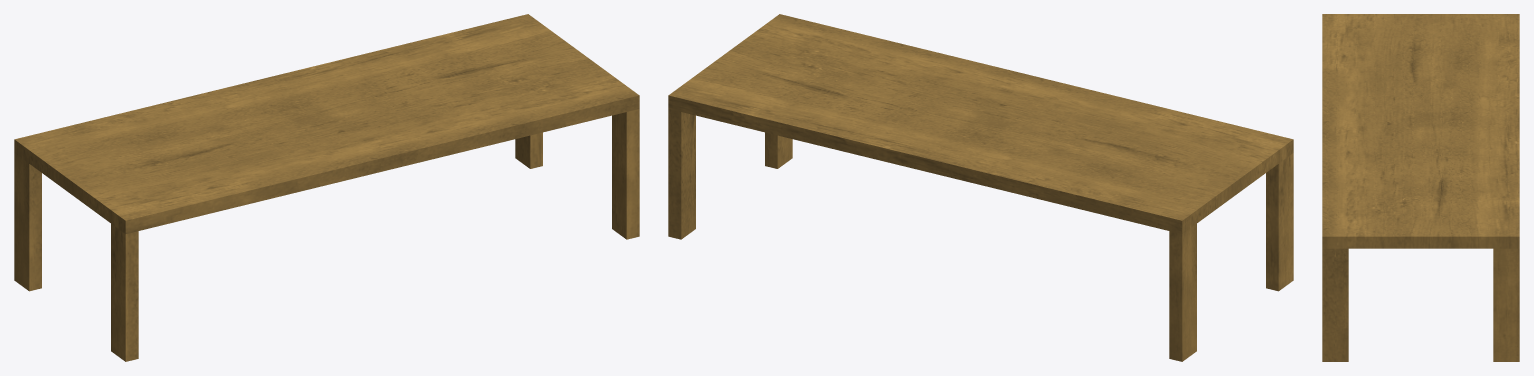
Rendered from table.obj.
3 renders of one model, left to right at view 1: azimuth 30°, elevation 25°; view 2: azimuth 150°, elevation 25°; view 3: azimuth 270°, elevation 25°, orthographic. The views are drawn at different scales.
Visible parts, largest first — view 1: tablemesh; view 2: tablemesh; view 3: tablemesh.
Part boxes in pixels (left/top/right/bottom): tablemesh: left=14, top=14, right=639, bottom=361; tablemesh: left=668, top=14, right=1293, bottom=361; tablemesh: left=1322, top=14, right=1519, bottom=361.
Size of the model in its own units: 4 by 1.05 by 1.5.
1 material, 1 textured.
